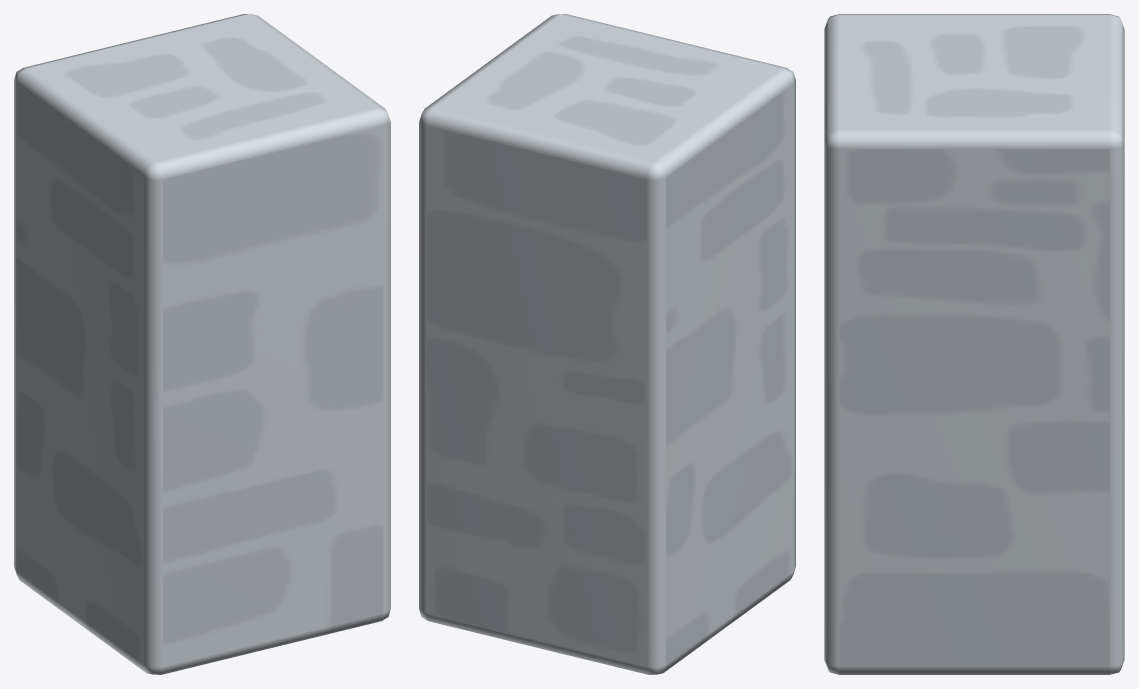
The model's file is SM_Block_01x02.fbx.
The picture shows the model from 3 angles, left to right: view 1: azimuth 30°, elevation 25°; view 2: azimuth 150°, elevation 25°; view 3: azimuth 270°, elevation 25°; orthographic projection. The views are drawn at different scales.
Visible parts, largest first — view 1: SM_Block_01x02; view 2: SM_Block_01x02; view 3: SM_Block_01x02.
Boxes of the visible parts, x1,y1,x2,y2 form: SM_Block_01x02: (14, 14, 390, 674); SM_Block_01x02: (419, 14, 795, 674); SM_Block_01x02: (824, 14, 1124, 674).
Bounding box in the file's own units: 1 × 2 × 1.
